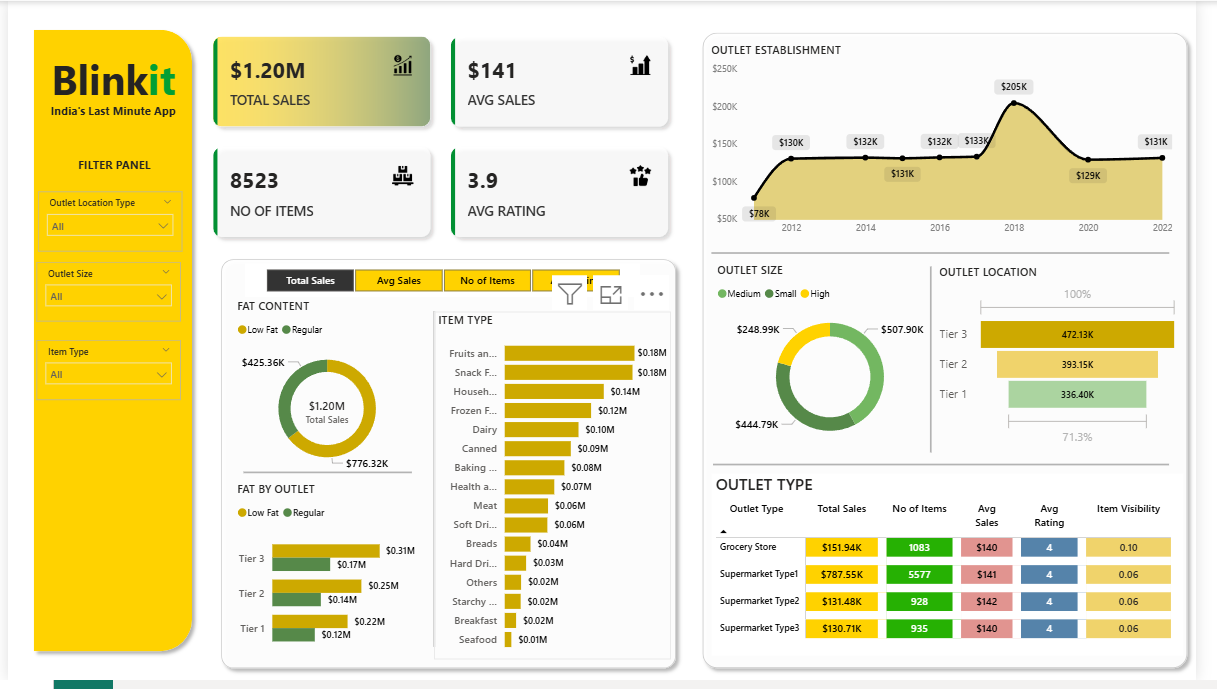

The page's visual inventory and layout, read from the dashboard file:
{"tool":"powerbi","page":{"name":"Page 1","canvas":[1400,800],"ordinal":0},"visuals":[{"type":"shape","box":[20.7,24.8,204.6,750.3],"z":0},{"type":"textbox","box":[35.1,53.7,177.8,93],"z":1000},{"type":"textbox","box":[35.1,115.7,177.8,31],"z":2000},{"type":"cardVisual","fields":{"Data":["BlinkIT Grocery Data.Total Sales","BlinkIT Grocery Data.Avg Sales","BlinkIT Grocery Data.No of Items","BlinkIT Grocery Data.Avg Rating"]},"box":[225.3,24.8,570.5,270.8],"z":3000},{"type":"shape","box":[241.8,295.6,553.9,500.2],"z":4000},{"type":"donutChart","title":"FAT CONTENT","fields":{"Y":["BlinkIT Grocery Data.Total Sales"],"Category":["BlinkIT Grocery Data.Item Fat Content"]},"box":[264.6,349.3,221.2,215],"z":5000},{"type":"slicer","fields":{"Values":["Metrics.Metrics"]},"box":[279,310,465.1,39.3],"z":6000},{"type":"cardVisual","fields":{"Data":["BlinkIT Grocery Data.Total Sales"]},"box":[316.2,438.2,119.9,90.9],"z":7000},{"type":"clusteredBarChart","title":"FAT BY OUTLET","fields":{"Y":["BlinkIT Grocery Data.Total Sales"],"Category":["BlinkIT Grocery Data.Outlet Location Type"],"Series":["BlinkIT Grocery Data.Item Fat Content"]},"box":[265.1,565.6,219.2,212.1],"z":8000},{"type":"shape","box":[277,545.7,198.4,18.6],"z":9000},{"type":"shape","box":[475.4,365.8,53.7,394.8],"z":10000},{"type":"barChart","title":"ITEM TYPE","fields":{"Y":["BlinkIT Grocery Data.Total Sales"],"Category":["BlinkIT Grocery Data.Item Type"]},"box":[502.3,365.8,279,409.3],"z":11000},{"type":"shape","box":[810.2,28.9,589.1,766.8],"z":12000},{"type":"lineChart","title":"OUTLET ESTABLISHMENT","fields":{"Y":["BlinkIT Grocery Data.Total Sales"],"Category":["BlinkIT Grocery Data.Outlet Establishment Year"]},"box":[823.6,47.7,553.2,236.8],"z":13000},{"type":"shape","box":[828.8,285.2,539.5,24.8],"z":14000},{"type":"donutChart","title":"OUTLET SIZE","fields":{"Y":["BlinkIT Grocery Data.Total Sales"],"Category":["BlinkIT Grocery Data.Outlet Size"]},"box":[830.9,308,274.9,225.3],"z":15000},{"type":"shape","box":[1072.7,312.1,28.9,219.1],"z":16000},{"type":"funnel","title":"OUTLET LOCATION","fields":{"Y":["Sum(BlinkIT Grocery Data.Sales)"],"Category":["BlinkIT Grocery Data.Outlet Location Type"]},"box":[1091.3,310,291.4,219.1],"z":17000},{"type":"shape","box":[830.9,533.3,537.4,24.8],"z":18000},{"type":"pivotTable","title":"OUTLET TYPE","fields":{"Rows":["BlinkIT Grocery Data.Outlet Type"],"Values":["BlinkIT Grocery Data.Total Sales","BlinkIT Grocery Data.No of Items","BlinkIT Grocery Data.Avg Sales","BlinkIT Grocery Data.Avg Rating","Avg(BlinkIT Grocery Data.Item Visibility)"]},"box":[828.8,556,556,215],"z":19000},{"type":"slicer","fields":{"Values":["BlinkIT Grocery Data.Outlet Location Type"]},"box":[35.3,224.5,170,70.7],"z":20000},{"type":"slicer","fields":{"Values":["BlinkIT Grocery Data.Outlet Size"]},"box":[33.6,307.5,170,70],"z":21000},{"type":"slicer","fields":{"Values":["BlinkIT Grocery Data.Item Type"]},"box":[33.6,399.4,170,70.7],"z":22000},{"type":"textbox","box":[37.1,178.5,176.7,31.8],"z":22001}]}

Visuals, with their boxes in screenshot pixels (x1, y1, x2, y2), scaled from the page's 1400x800 canvas onto the 1217x689 screenshot:
shape: [18, 21, 196, 668]
textbox: [31, 46, 185, 126]
textbox: [31, 100, 185, 126]
cardVisual - BlinkIT Grocery Data.Total Sales x BlinkIT Grocery Data.Avg Sales: [196, 21, 692, 255]
shape: [210, 255, 692, 685]
"FAT CONTENT" donutChart: [230, 301, 422, 486]
slicer - Metrics.Metrics: [243, 267, 647, 301]
cardVisual - BlinkIT Grocery Data.Total Sales: [275, 377, 379, 456]
"FAT BY OUTLET" clusteredBarChart: [230, 487, 421, 670]
shape: [241, 470, 413, 486]
shape: [413, 315, 460, 655]
"ITEM TYPE" barChart: [437, 315, 679, 668]
shape: [704, 25, 1216, 685]
"OUTLET ESTABLISHMENT" lineChart: [716, 41, 1197, 245]
shape: [720, 246, 1189, 267]
"OUTLET SIZE" donutChart: [722, 265, 961, 459]
shape: [932, 269, 958, 457]
"OUTLET LOCATION" funnel: [949, 267, 1202, 456]
shape: [722, 459, 1189, 481]
"OUTLET TYPE" pivotTable: [720, 479, 1204, 664]
slicer - BlinkIT Grocery Data.Outlet Location Type: [31, 193, 178, 254]
slicer - BlinkIT Grocery Data.Outlet Size: [29, 265, 177, 325]
slicer - BlinkIT Grocery Data.Item Type: [29, 344, 177, 405]
textbox: [32, 154, 186, 181]
